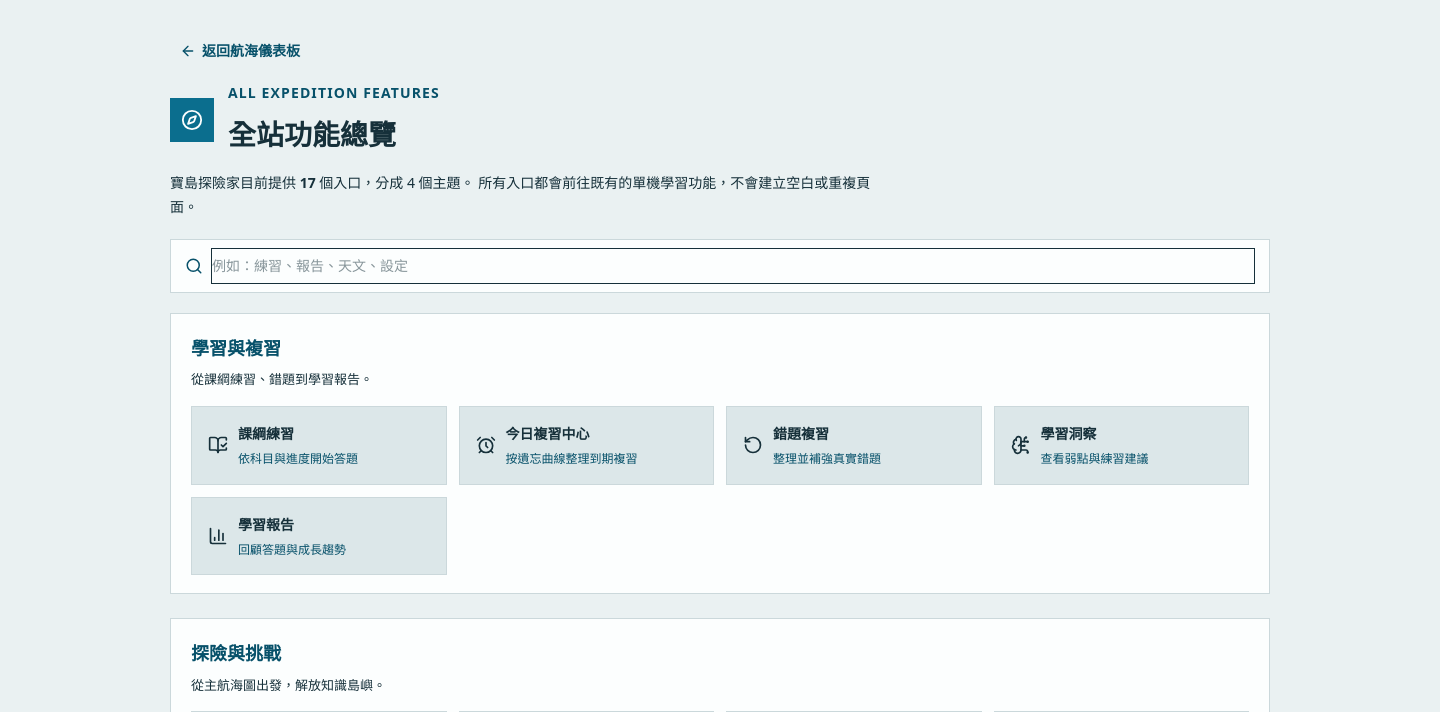
Scenario: FeaturesDirectory 全站功能總覽 › 搜尋過濾只顯示符合的分組
The width and height of the screenshot is (1440, 712).
Type "天文" into the search field with placeholder "例如：練習、報告、天文、設定" at (733, 266), box 211,248 -> 1255,284
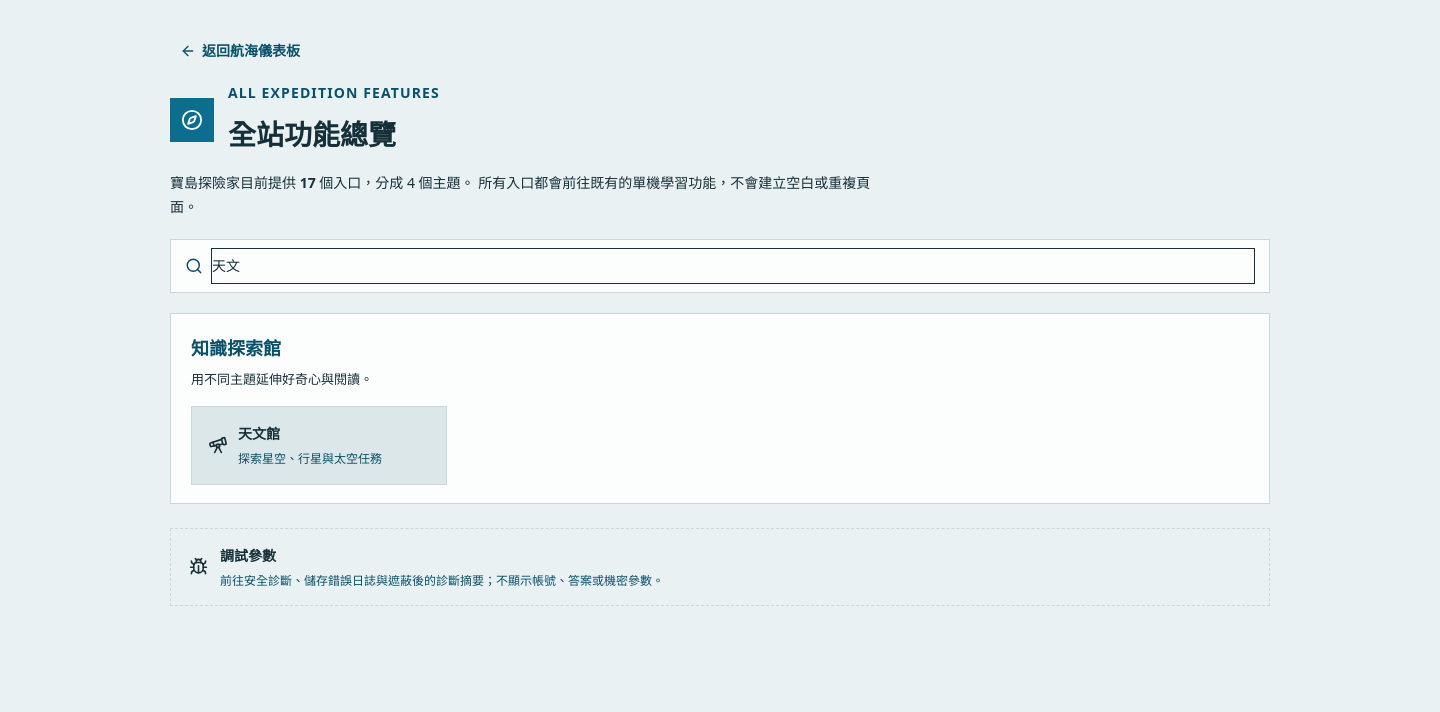
Expected: the heading "知識探索館" is shown, 191,336 -> 281,360
Now the heading "探險與挑戰" is gone
